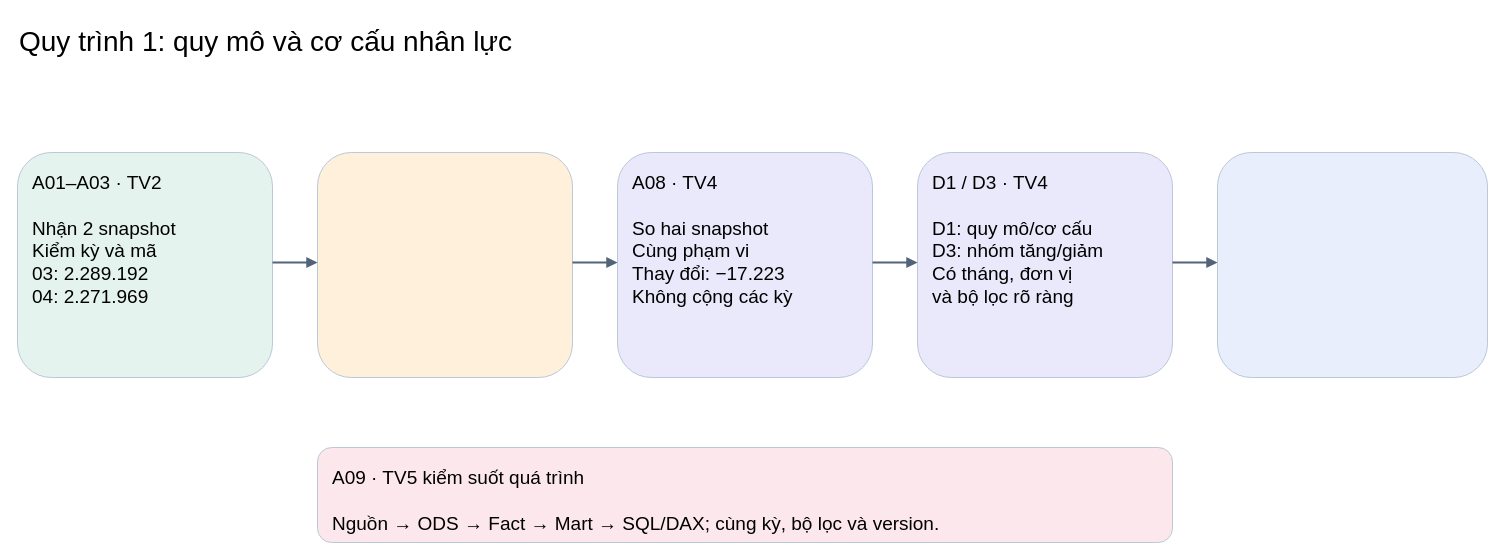
The diagram is 1505 pixels wide and 560 high, and some of its shapes have lost their labels. Each missing label, with the centre of its shape:
"A04–A05 · TV3 Staging / ODS Fact snapshot Mart tổng hợp Giữ số và truy vết" belongs at (444,265).
"A10 · TV1 Đọc kết quả Nêu số, kỳ, giới hạn Không tự suy nguyên nhân" belongs at (1352,265).
